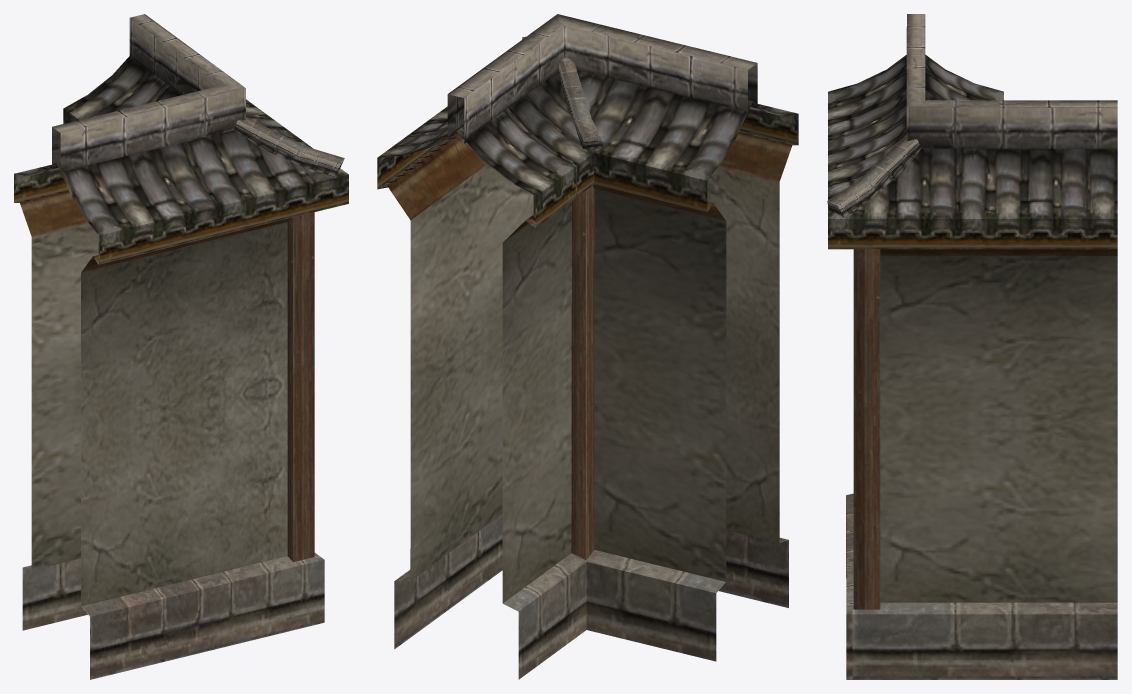
File: Hangzhou_wj_041.FBX
The picture shows the model from 3 angles, left to right: view 1: azimuth 30°, elevation 25°; view 2: azimuth 150°, elevation 25°; view 3: azimuth 270°, elevation 25°; orthographic projection. The views are drawn at different scales.
Parts seen in each view (by area): view 1: WQ_zhen001_004; view 2: WQ_zhen001_004; view 3: WQ_zhen001_004.
Boxes of the visible parts, <box> form: WQ_zhen001_004: <box>14,14,348,679</box>; WQ_zhen001_004: <box>377,14,798,679</box>; WQ_zhen001_004: <box>827,14,1117,679</box>.
Bounding box in the file's own units: 116 × 232 × 112.
1 material, 1 textured.
